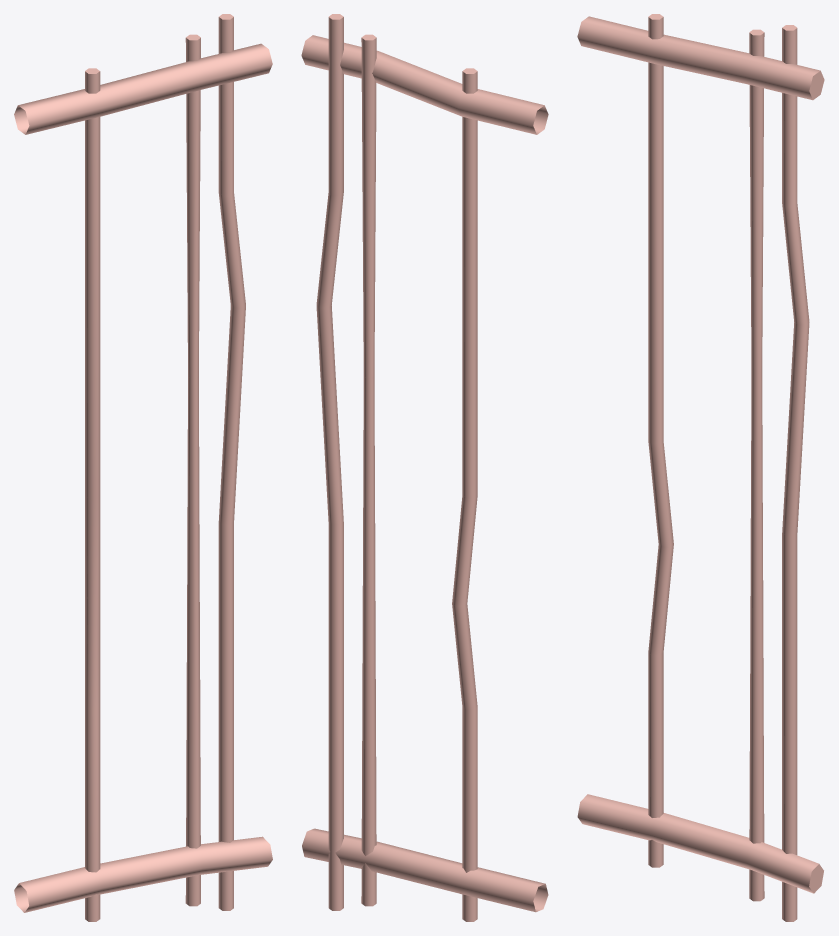
The model's file is Mega_Asset_s_Pack_Cylinder_030.FBX.
The picture shows the model from 3 angles, left to right: view 1: azimuth 30°, elevation 25°; view 2: azimuth 150°, elevation 25°; view 3: azimuth 330°, elevation 25°; orthographic projection.
Visible parts, largest first — view 1: Mega_Asset_s_Pack_Cylinder_030; view 2: Mega_Asset_s_Pack_Cylinder_030; view 3: Mega_Asset_s_Pack_Cylinder_030.
Part boxes in pixels (x1,y1,x2,y2): Mega_Asset_s_Pack_Cylinder_030: (14, 14, 272, 921); Mega_Asset_s_Pack_Cylinder_030: (301, 14, 548, 921); Mega_Asset_s_Pack_Cylinder_030: (577, 14, 824, 921).
Size of what is drawn, in the model's own units: 182 by 30.03 by 652.
